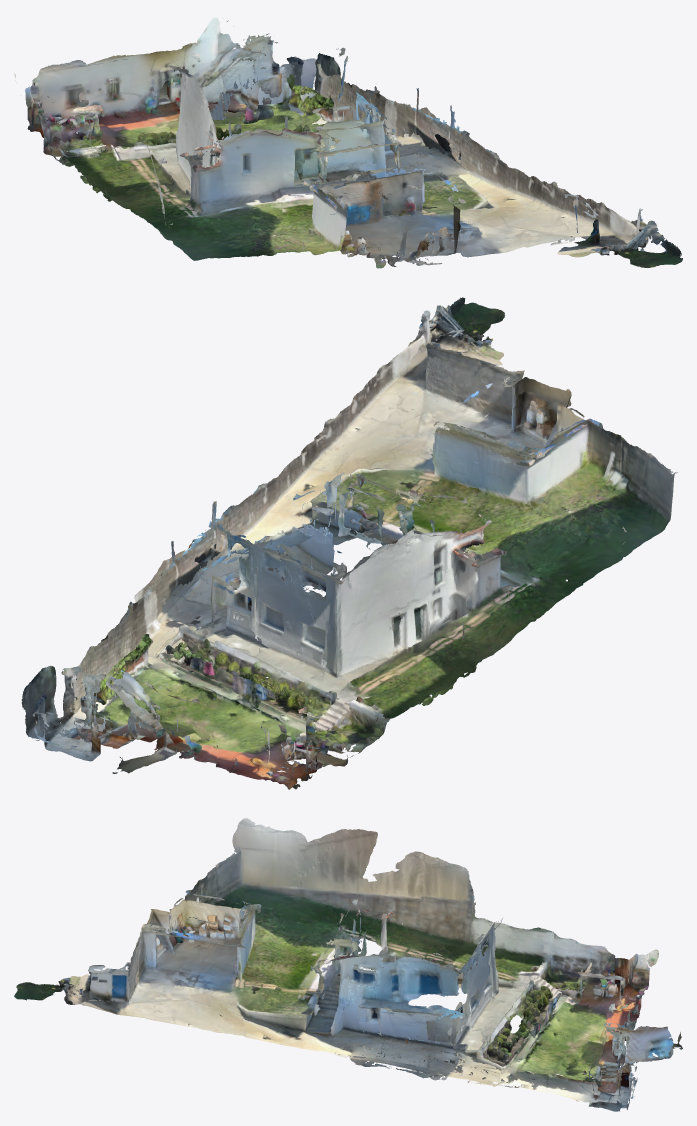
File: exterior.glb
The picture shows the model from 3 angles, top to bottom: view 1: azimuth 30°, elevation 25°; view 2: azimuth 150°, elevation 25°; view 3: azimuth 270°, elevation 25°; orthographic projection. The views are drawn at different scales.
Parts seen in each view (by area): view 1: CapturedExterior; view 2: CapturedExterior; view 3: CapturedExterior.
Part boxes in pixels (<box>): CapturedExterior: <box>14,17,682,268</box>; CapturedExterior: <box>21,297,677,789</box>; CapturedExterior: <box>14,818,682,1111</box>.
Size of what is drawn, in the model's own units: 22.91 by 11.85 by 45.05.
1 material, 1 textured.
